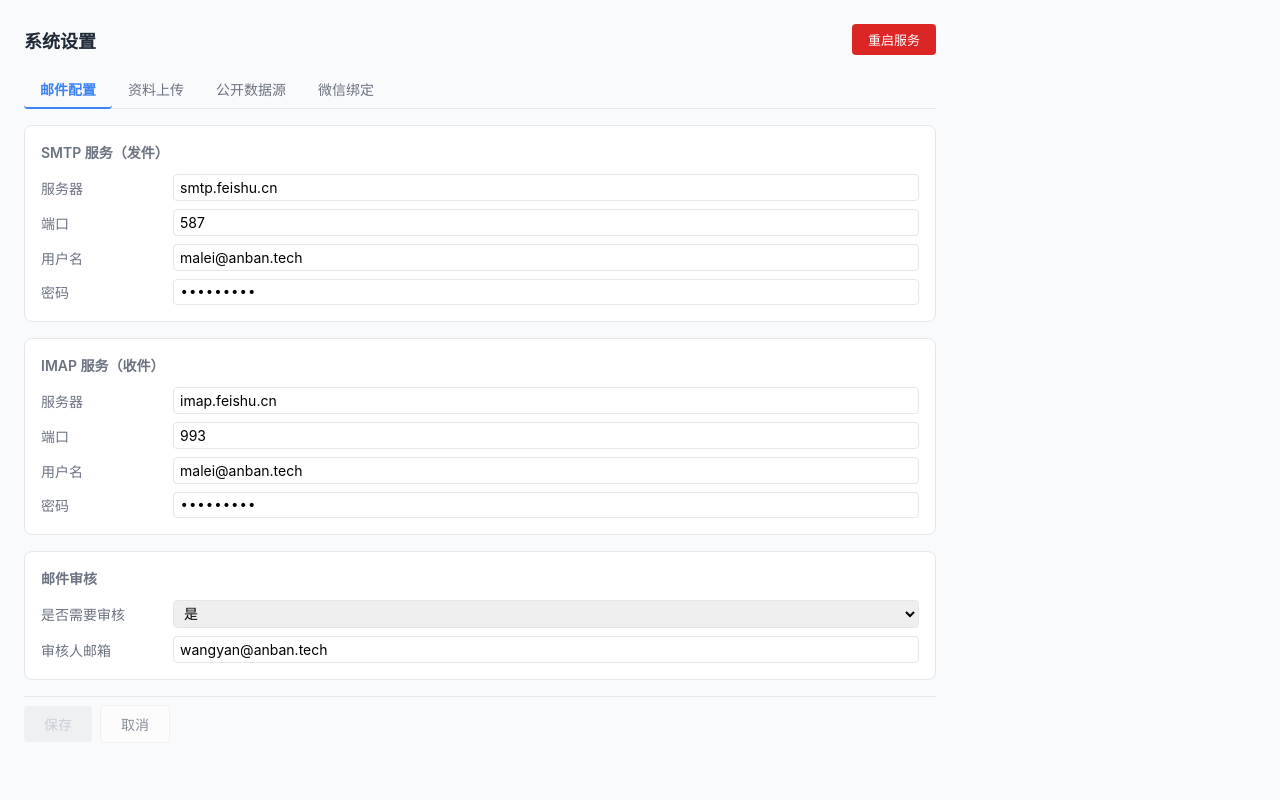
Test: Settings 邮件配置 tab - 常驻可编辑 + 底部统一保存 › tab 切换后回到 email tab：draft 重置为 initialConfig（用户切走前未保存的改动会丢）
Replace the text in the field with test id "smtp-host" with "smtp.unsaved.cn". click: [546, 188]
box: top-left (173, 174), bottom-right (919, 201)
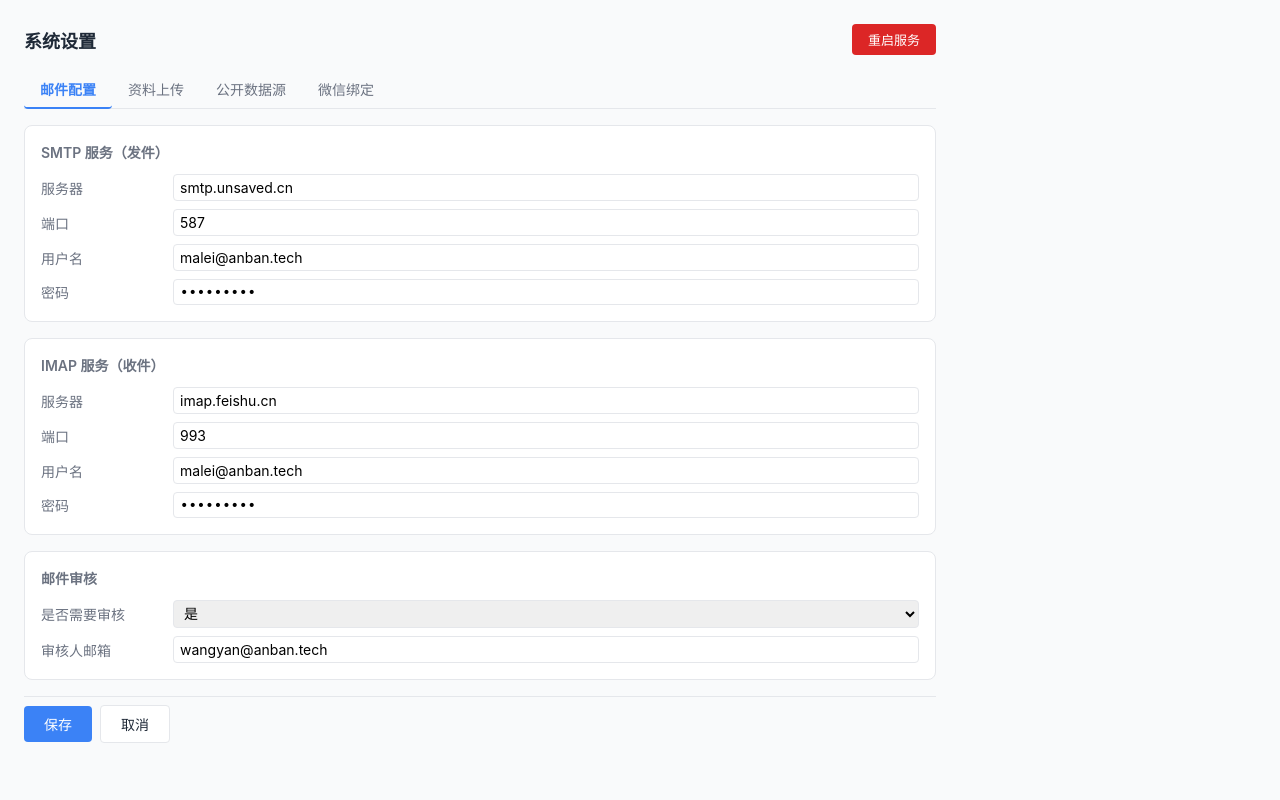
// 切到 upload tab 再切回来
Click the tab with test id "tab-upload". click: [156, 90]
box: top-left (112, 71), bottom-right (200, 109)
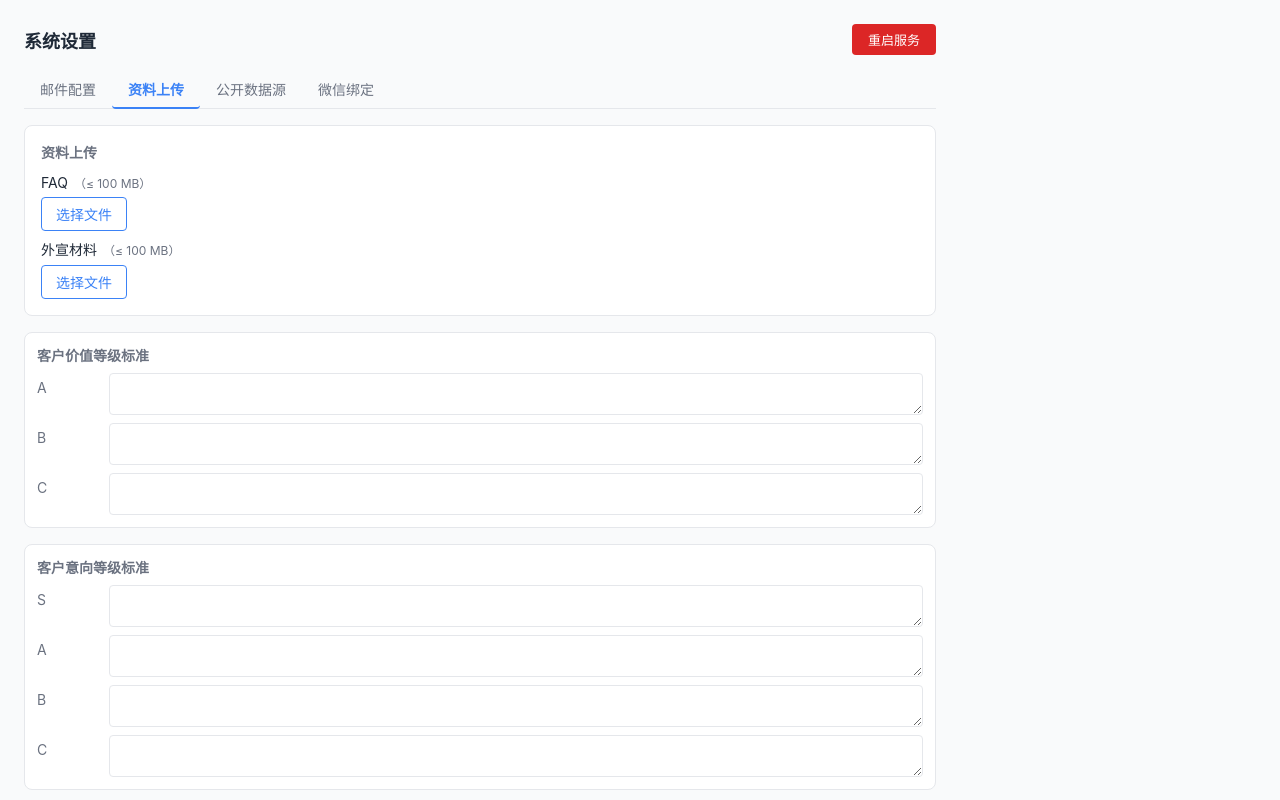
Check: the element with test id "upload-faq-input" is shown, box top-left (41, 197), bottom-right (127, 231)
Click the tab with test id "tab-email". click: [68, 90]
box: top-left (24, 71), bottom-right (112, 109)
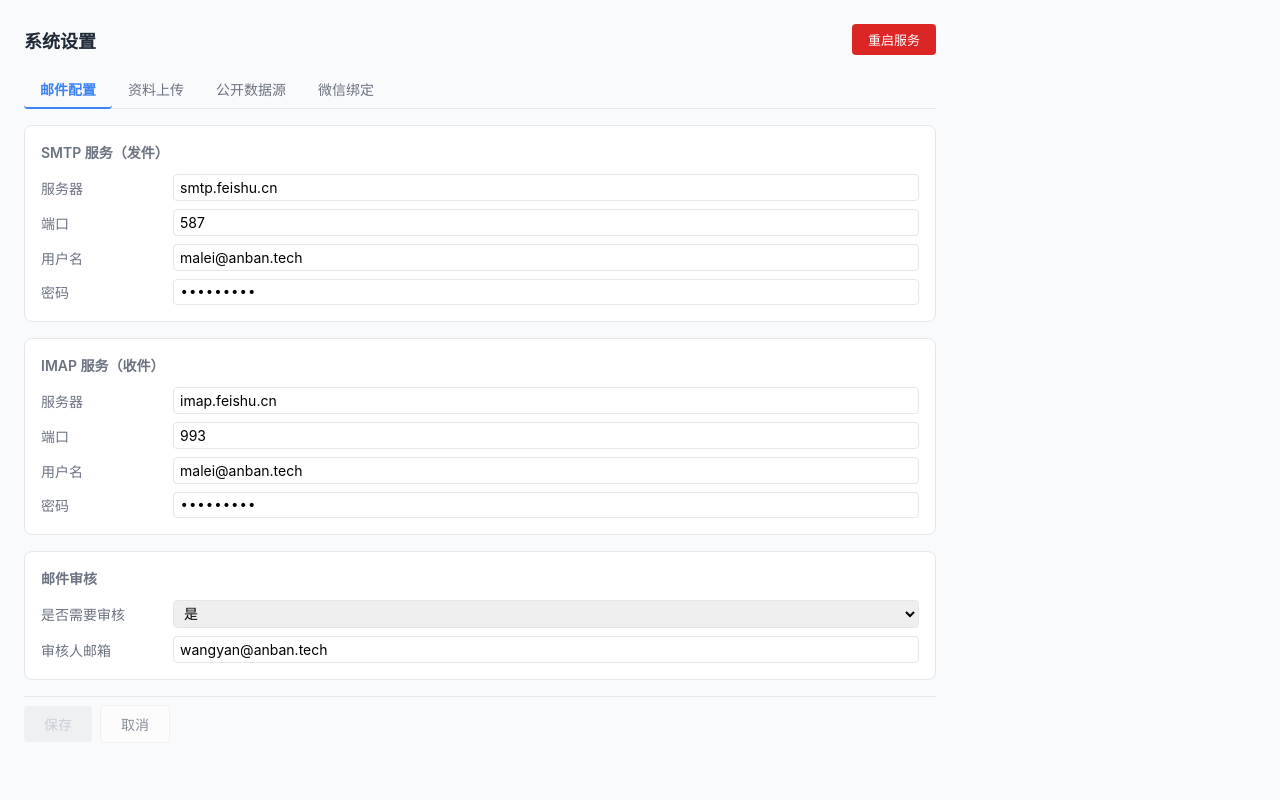
Check: the button with test id "email-config-save" is disabled, box top-left (24, 706), bottom-right (92, 742)
Check: the field with test id "smtp-host" holds "smtp.feishu.cn", box top-left (173, 174), bottom-right (919, 201)
